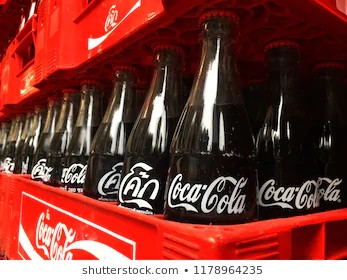coke-glass-bottle: (162, 9, 258, 222), (117, 35, 190, 218), (260, 37, 310, 219), (79, 60, 145, 196)
